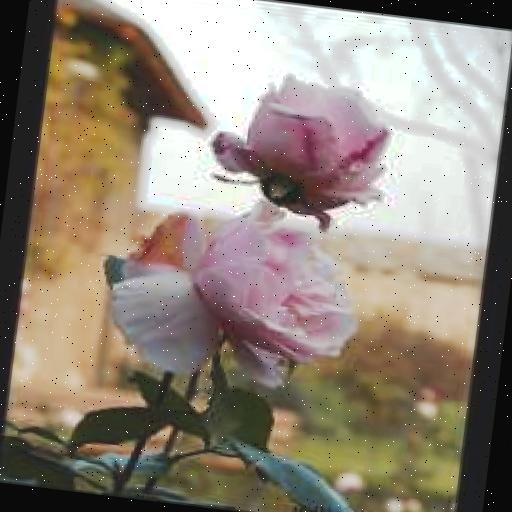rose: (90, 193, 368, 396), (204, 67, 400, 214)
